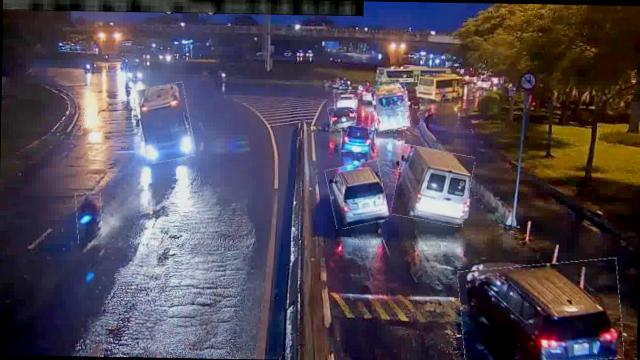Bike: (76, 192, 103, 243)
Bus: (393, 147, 472, 225), (136, 83, 194, 162), (372, 82, 411, 130)
Car: (458, 259, 624, 360), (327, 160, 387, 226), (340, 126, 370, 152), (328, 104, 356, 128), (335, 90, 360, 110)
